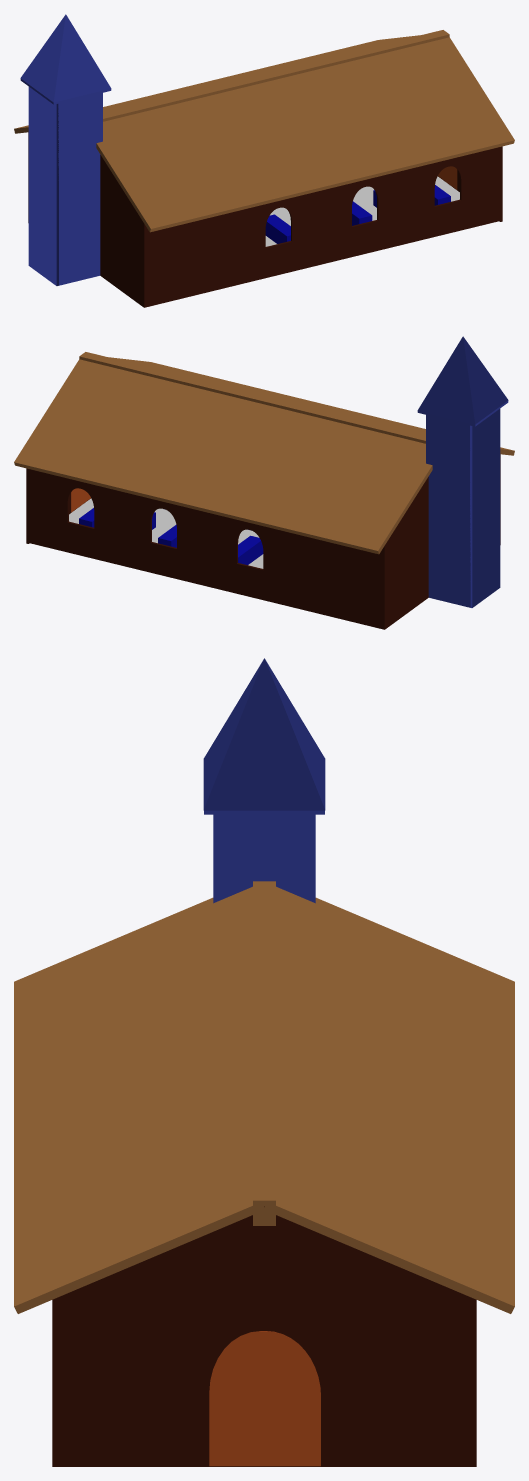
Rendered from churchproto2.FBX.
3 renders of one model, top to bottom at view 1: azimuth 30°, elevation 25°; view 2: azimuth 150°, elevation 25°; view 3: azimuth 270°, elevation 25°, orthographic. The views are drawn at different scales.
Parts seen in each view (by area): view 1: Cube.008; view 2: Cube.008; view 3: Cube.008.
Boxes of the visible parts, <box> form: Cube.008: <box>14,14,514,307</box>; Cube.008: <box>14,336,514,629</box>; Cube.008: <box>14,658,514,1466</box>.
Size of the model in its own units: 59399 by 35688 by 34409.
